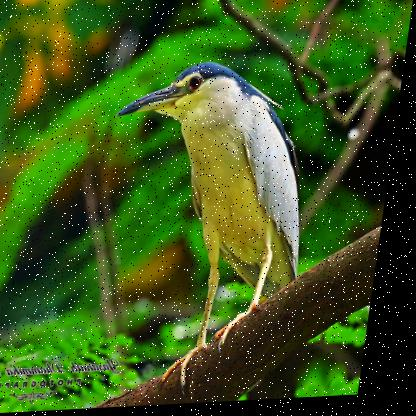Burung: (86, 59, 338, 403)
